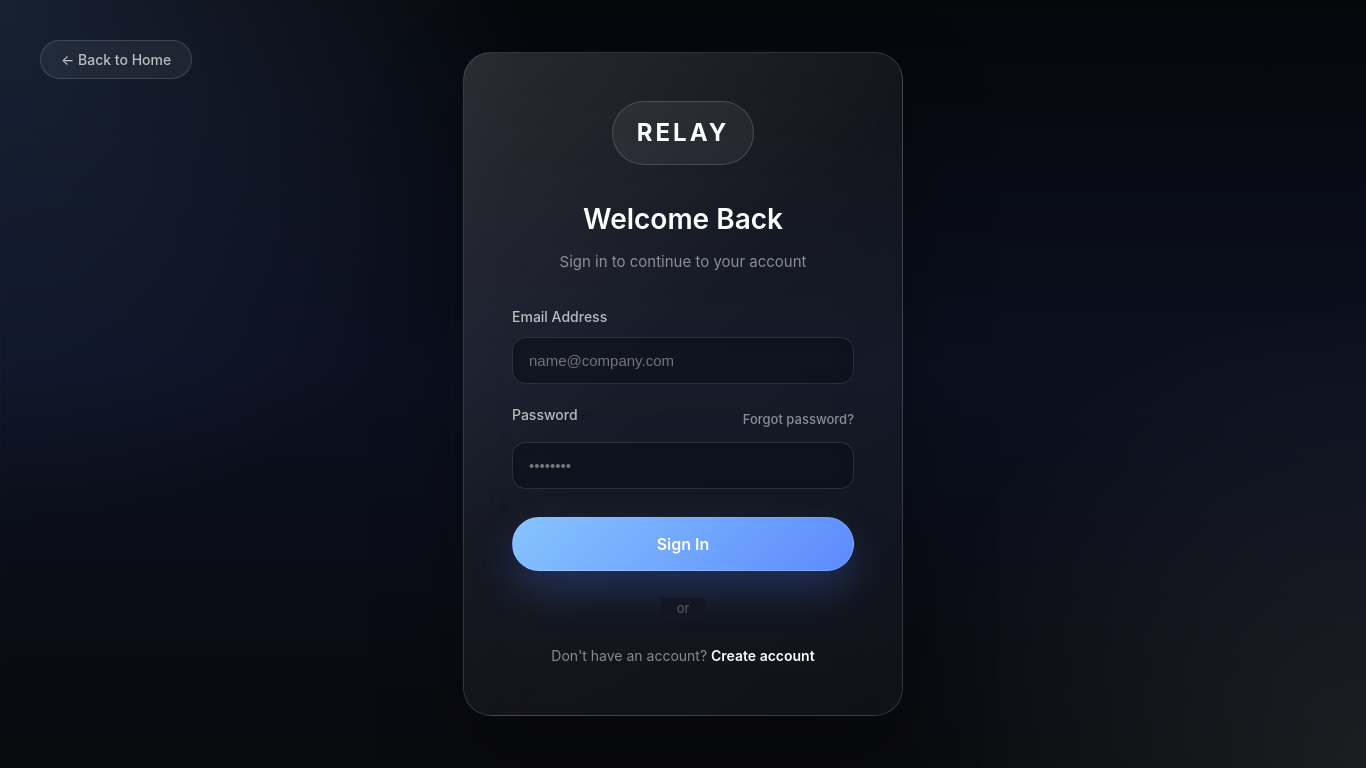
Test: Login Component › should show error when email is empty
This screenshot has width=1366, height=768.
What coordinates should you click on to do the following:
click the button "Sign In"
I would click on:
 (683, 544)
Its box is [512,517,854,571].
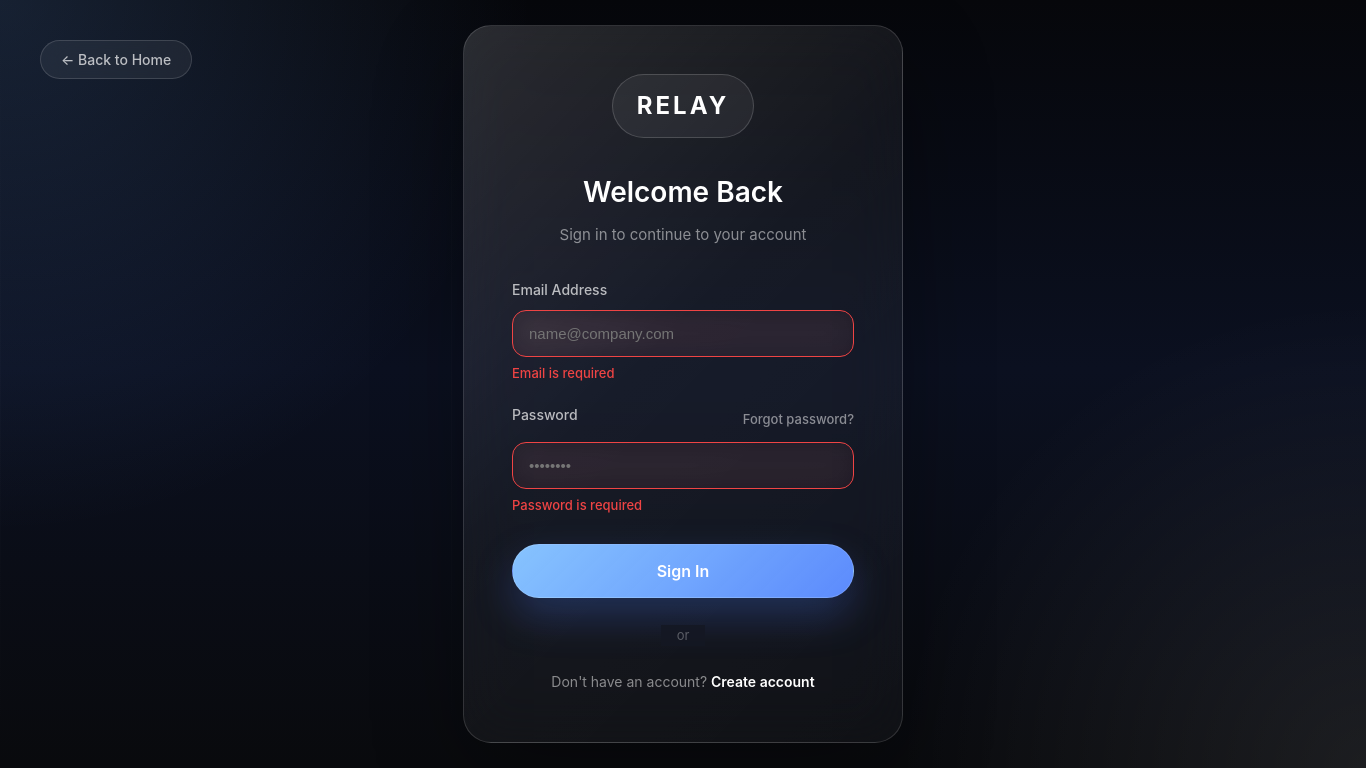
Now the text "Email is required" is shown, box [512,365,614,381]
